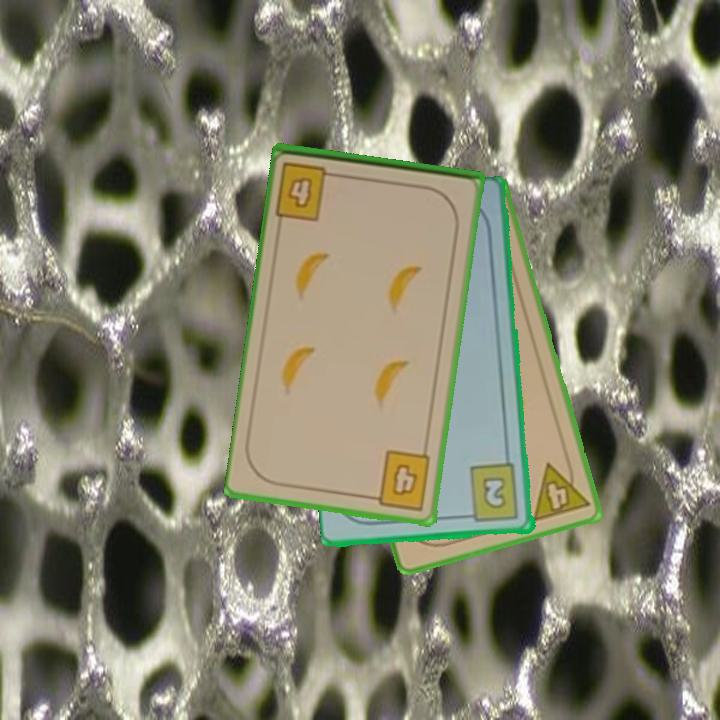2b: (461, 461, 522, 526)
4b: (272, 158, 344, 224), (365, 446, 434, 513)
4p: (528, 454, 592, 525)
